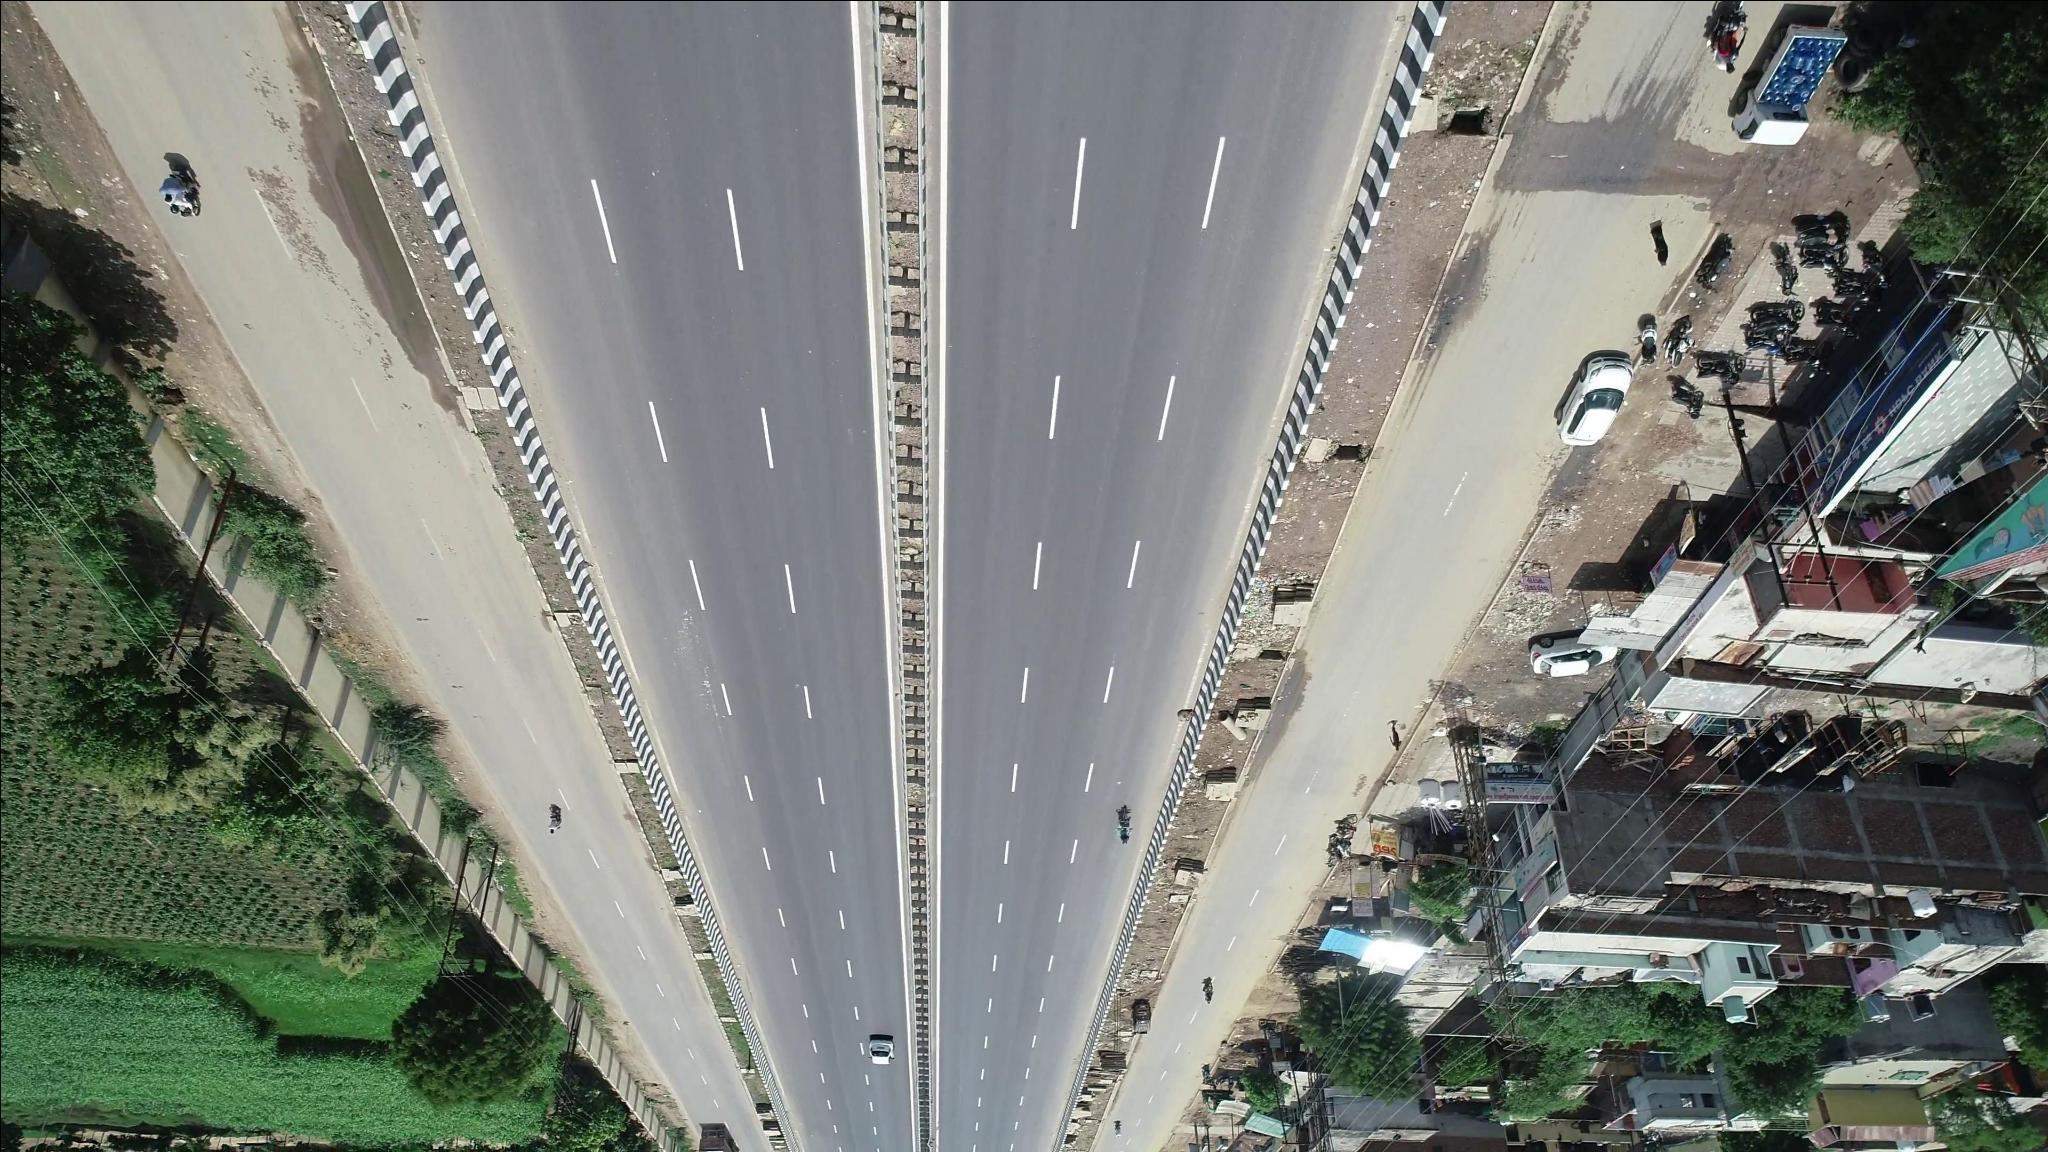Waterlogging: (321, 151, 435, 398)
